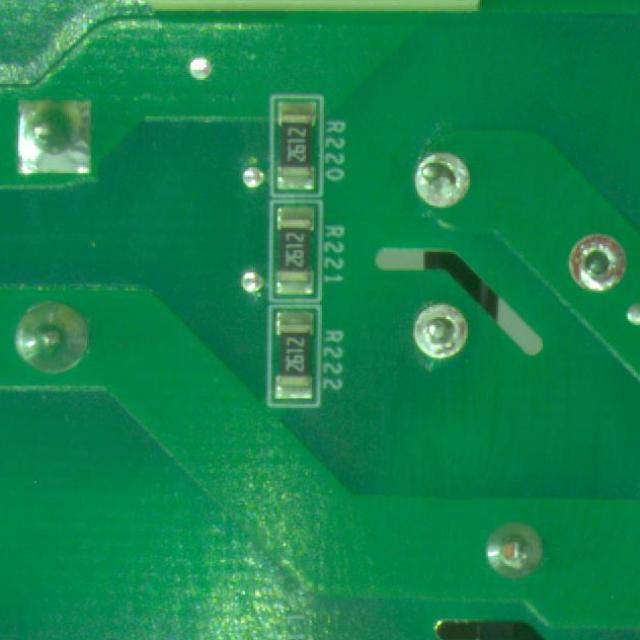Insufficient solder: (395, 294, 480, 368), (409, 144, 470, 212), (569, 226, 616, 296)
